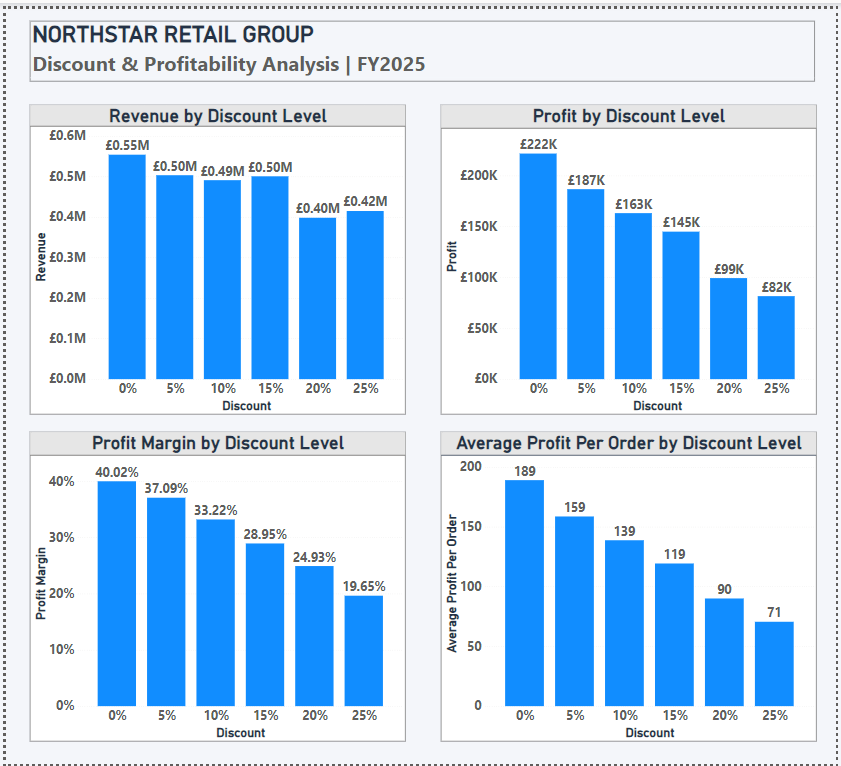

What the dashboard file says about the page in this screenshot:
{"tool":"powerbi","page":{"name":"Discount & Profitability","canvas":[2200,2000],"ordinal":3},"visuals":[{"type":"clusteredColumnChart","title":"Revenue by Discount Level","fields":{"Y":["sales.Total Revenue"],"Category":["sales.discount"]},"box":[64,256,995,820],"z":0},{"type":"clusteredColumnChart","title":"Profit by Discount Level","fields":{"Y":["sales.Total Profit"],"Category":["sales.discount"]},"box":[1152,256,995,820],"z":1000},{"type":"clusteredColumnChart","title":"Profit Margin by Discount Level","fields":{"Y":["sales.Profit Margin"],"Category":["sales.discount"]},"box":[64,1120,995,820],"z":2000},{"type":"clusteredColumnChart","title":"Average Profit Per Order by Discount Level","fields":{"Y":["sales.Average Profit per Order"],"Category":["sales.discount"]},"box":[1152,1120,995,820],"z":3000},{"type":"textbox","title":"NORTHSTAR RETAIL GROUP","box":[64,32,2080,160],"z":6001}]}

Visuals, with their boxes in screenshot pixels (x1, y1, x2, y2), scaled from the page's 2200x2000 canvas onto the 841x766 screenshot:
"Revenue by Discount Level" clusteredColumnChart: bbox(24, 98, 405, 412)
"Profit by Discount Level" clusteredColumnChart: bbox(440, 98, 821, 412)
"Profit Margin by Discount Level" clusteredColumnChart: bbox(24, 429, 405, 743)
"Average Profit Per Order by Discount Level" clusteredColumnChart: bbox(440, 429, 821, 743)
"NORTHSTAR RETAIL GROUP" textbox: bbox(24, 12, 820, 74)
